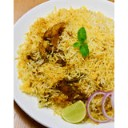briyani: (23, 10, 114, 122)
